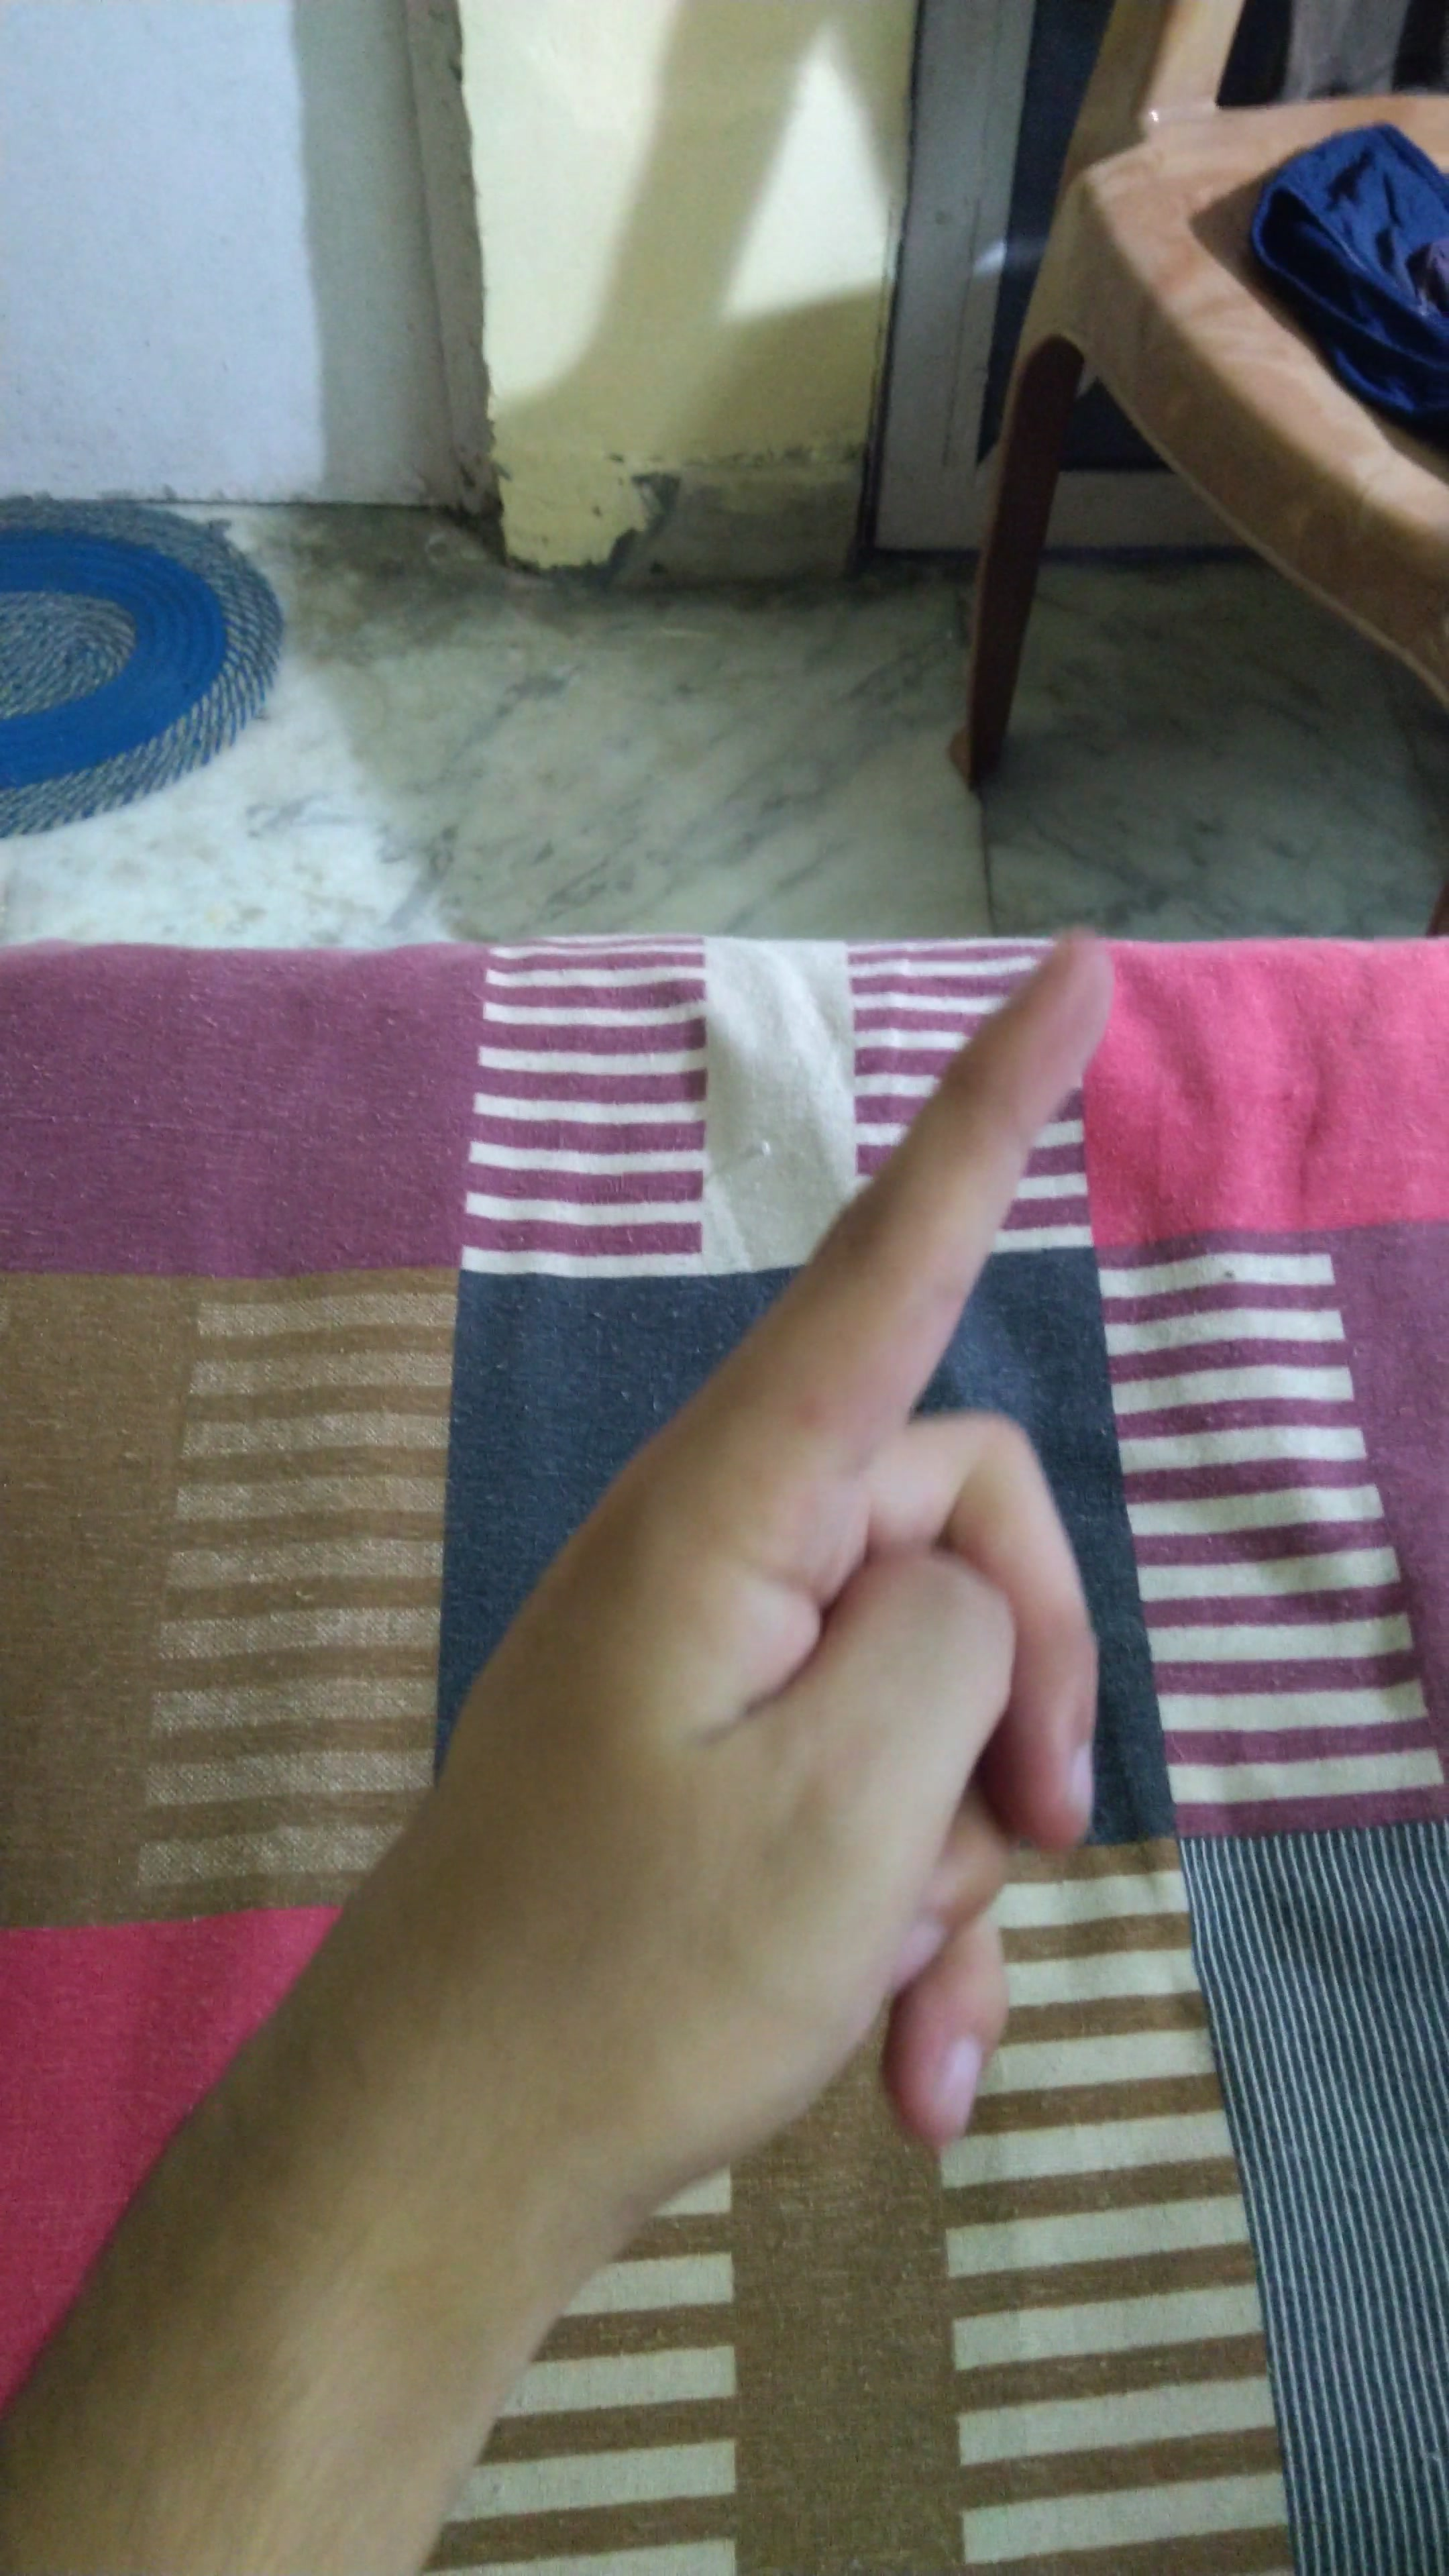hand: (384, 916, 1164, 2199)
